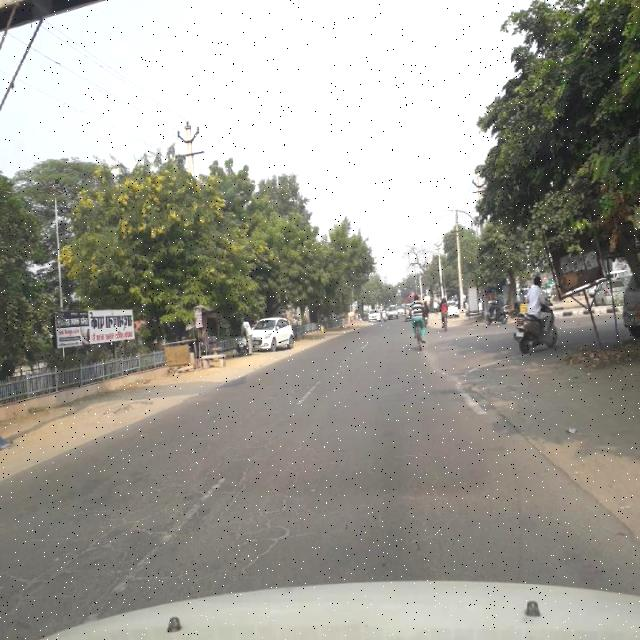D20: (2, 508, 170, 601), (212, 447, 300, 576)
D44: (119, 475, 228, 593)
